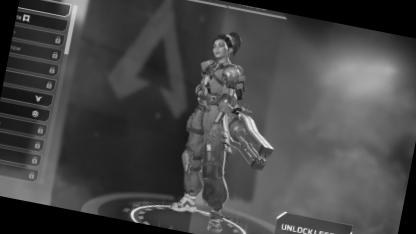Target: (170, 21, 256, 205)
